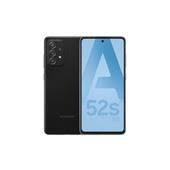Smartphone: (82, 37, 123, 132), (45, 40, 83, 134)
